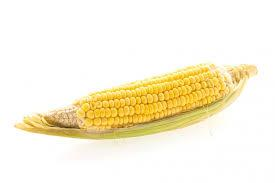non-mango: (14, 60, 258, 139)
